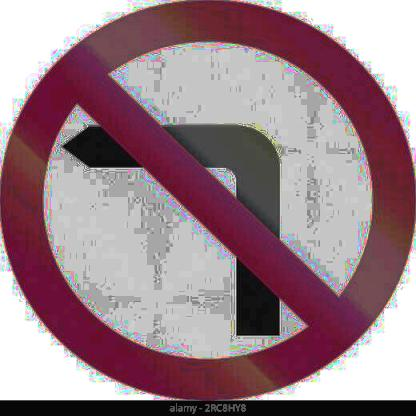No left turn: (0, 0, 416, 397)
